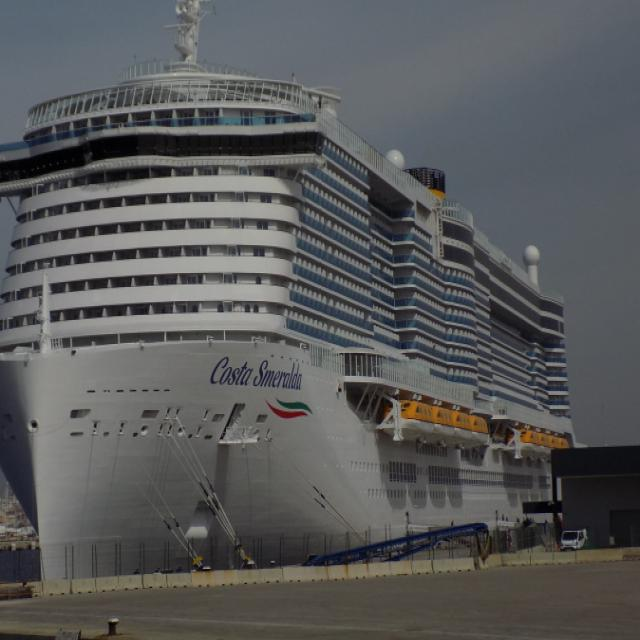cruises: (1, 1, 582, 593)
